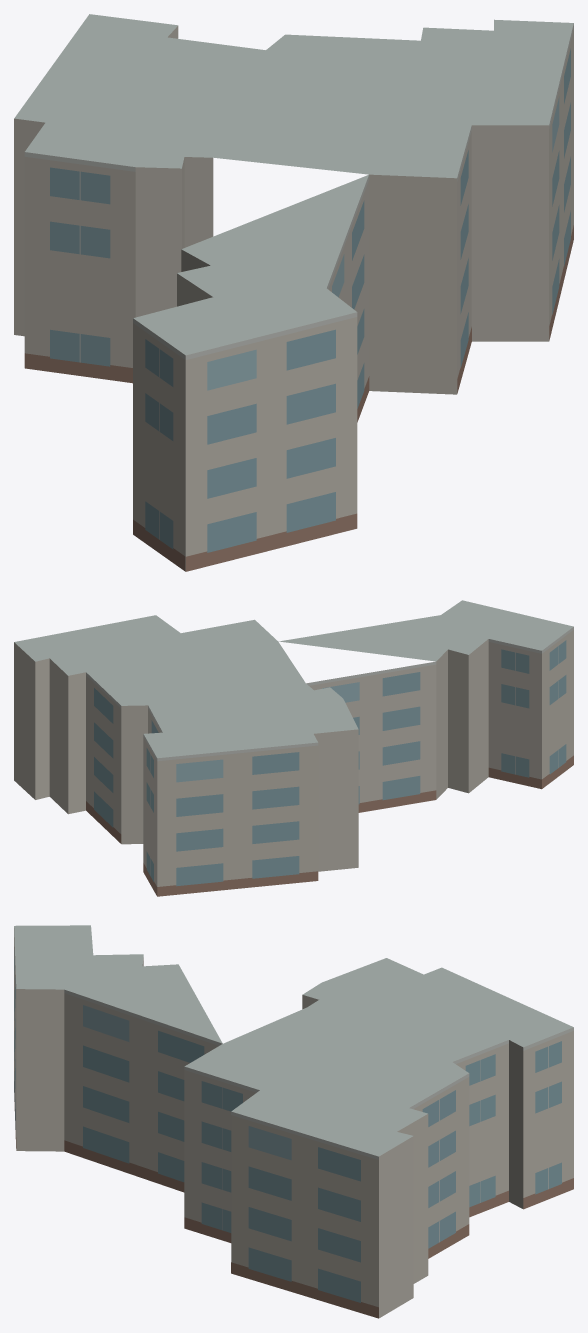
The model's file is survey-upis-32565028.glb.
3 renders of one model, top to bottom at view 1: azimuth 30°, elevation 25°; view 2: azimuth 150°, elevation 25°; view 3: azimuth 270°, elevation 25°, orthographic. The views are drawn at different scales.
Visible parts, largest first — view 1: survey-upis-32565028.tmp; view 2: survey-upis-32565028.tmp; view 3: survey-upis-32565028.tmp.
Boxes of the visible parts, x1=… form: survey-upis-32565028.tmp: x1=14, y1=14, x2=573, y2=571; survey-upis-32565028.tmp: x1=14, y1=600, x2=573, y2=896; survey-upis-32565028.tmp: x1=14, y1=925, x2=573, y2=1318.
Size of the model in its own units: 34.3 by 11.2 by 35.09.
